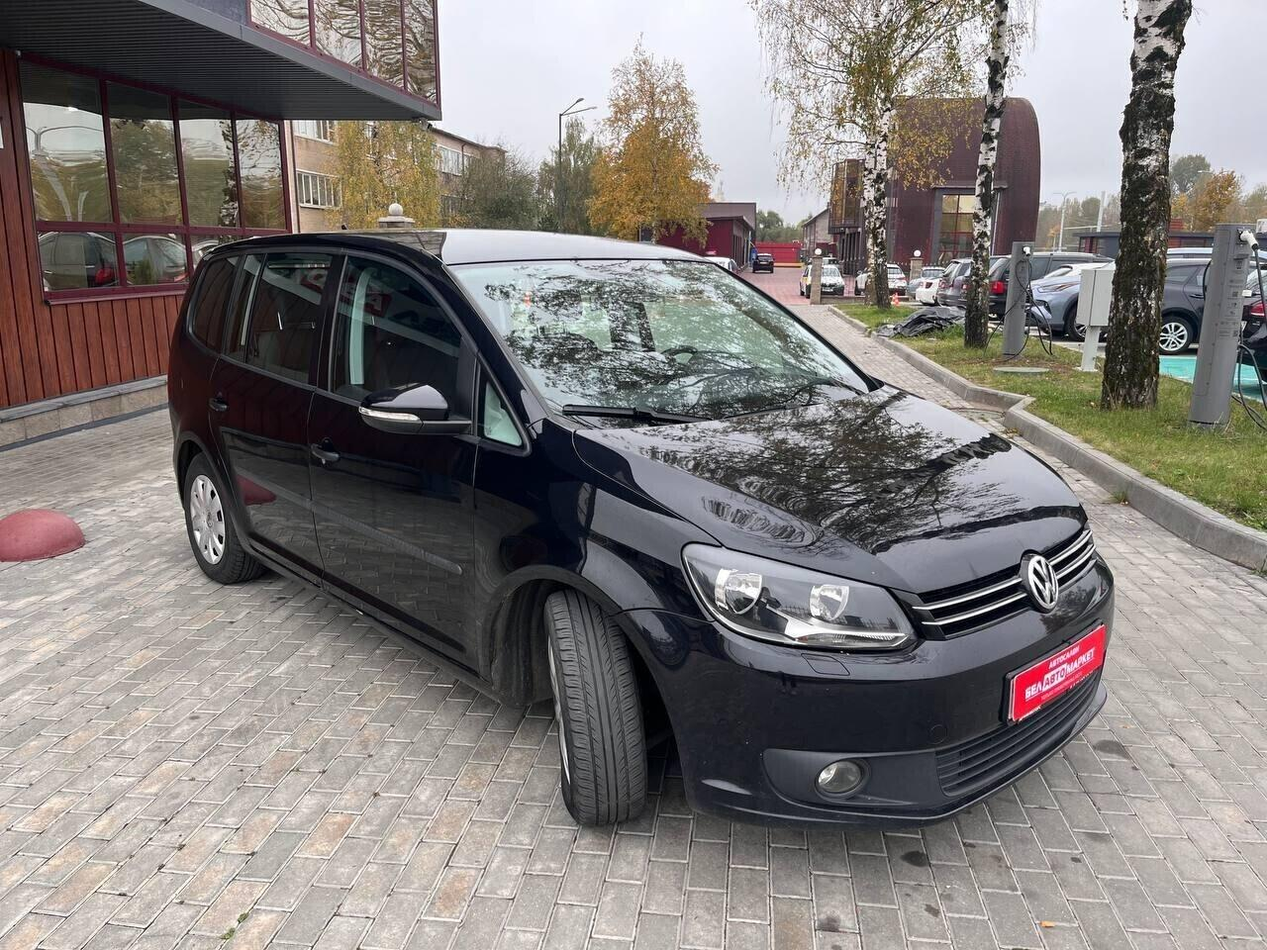Touran_2010-2015: (162, 216, 1116, 837)
